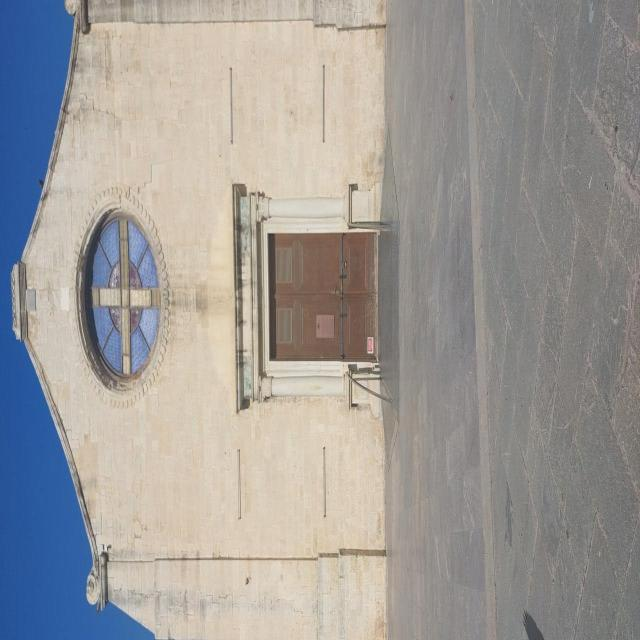Agia Aikaterini: (1, 1, 289, 640)
